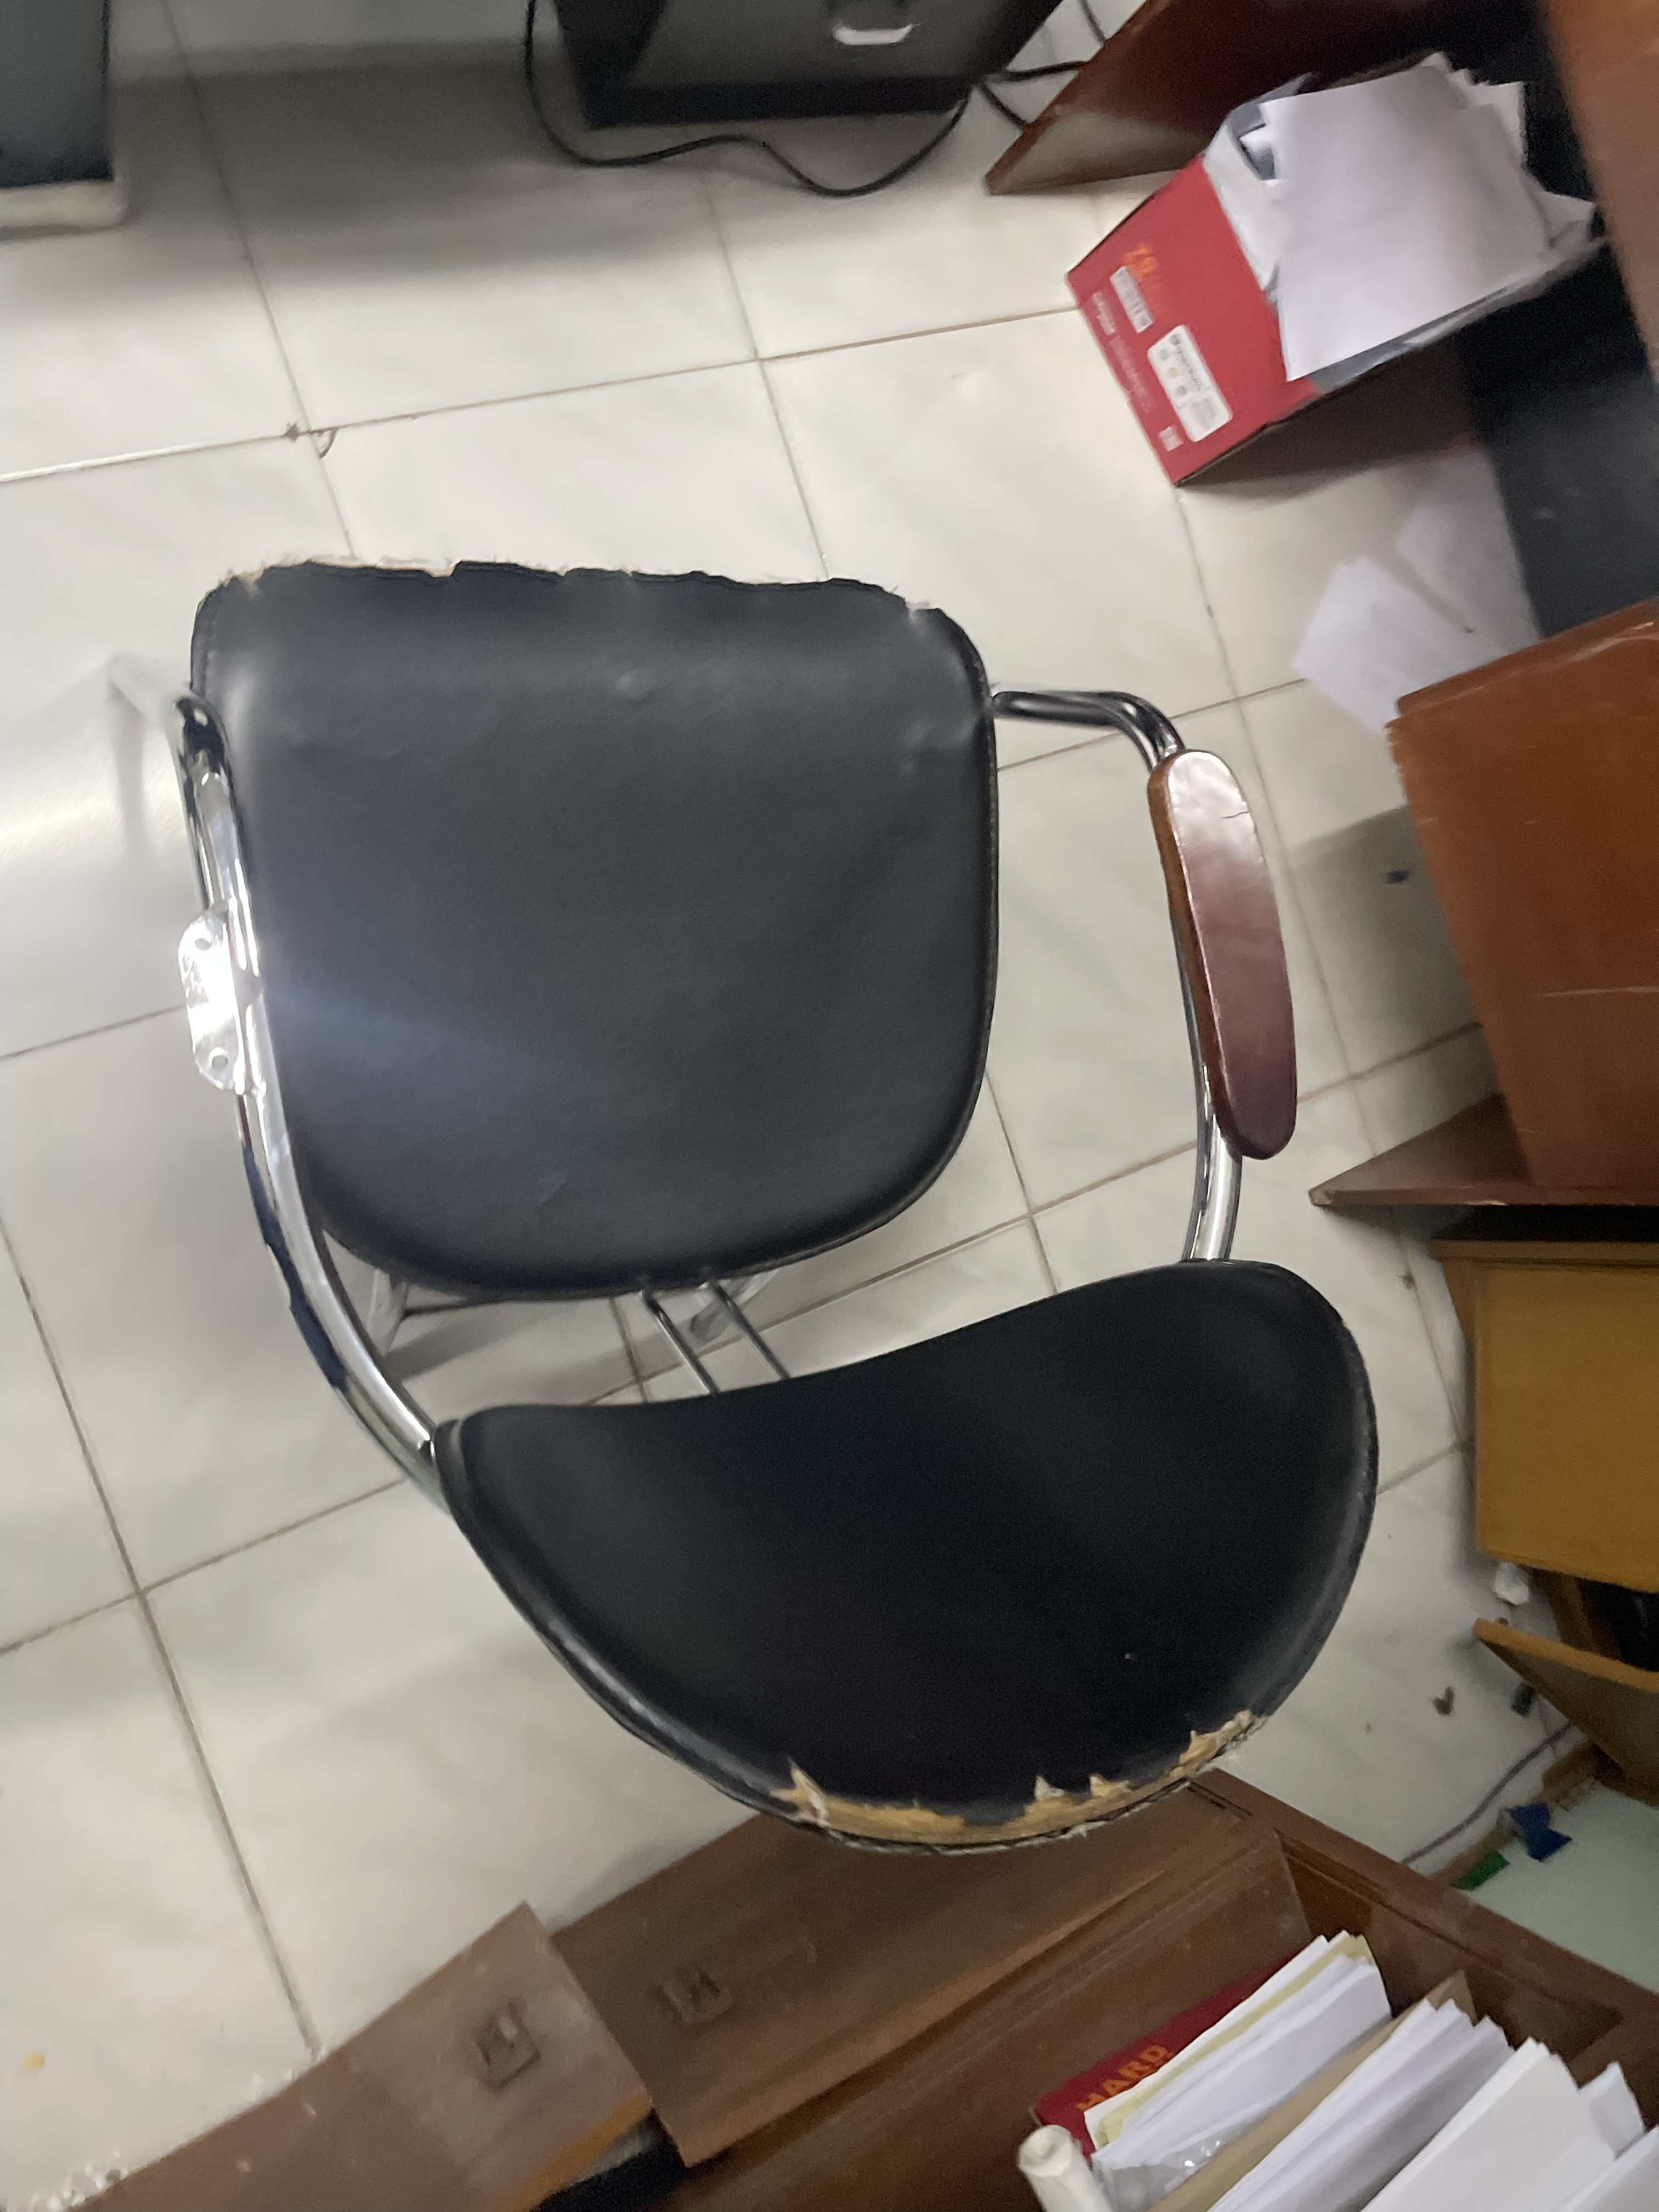chair1: (113, 557, 1385, 1862)
